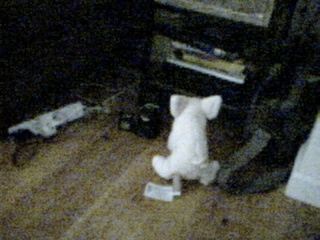piggy: (149, 92, 224, 187)
